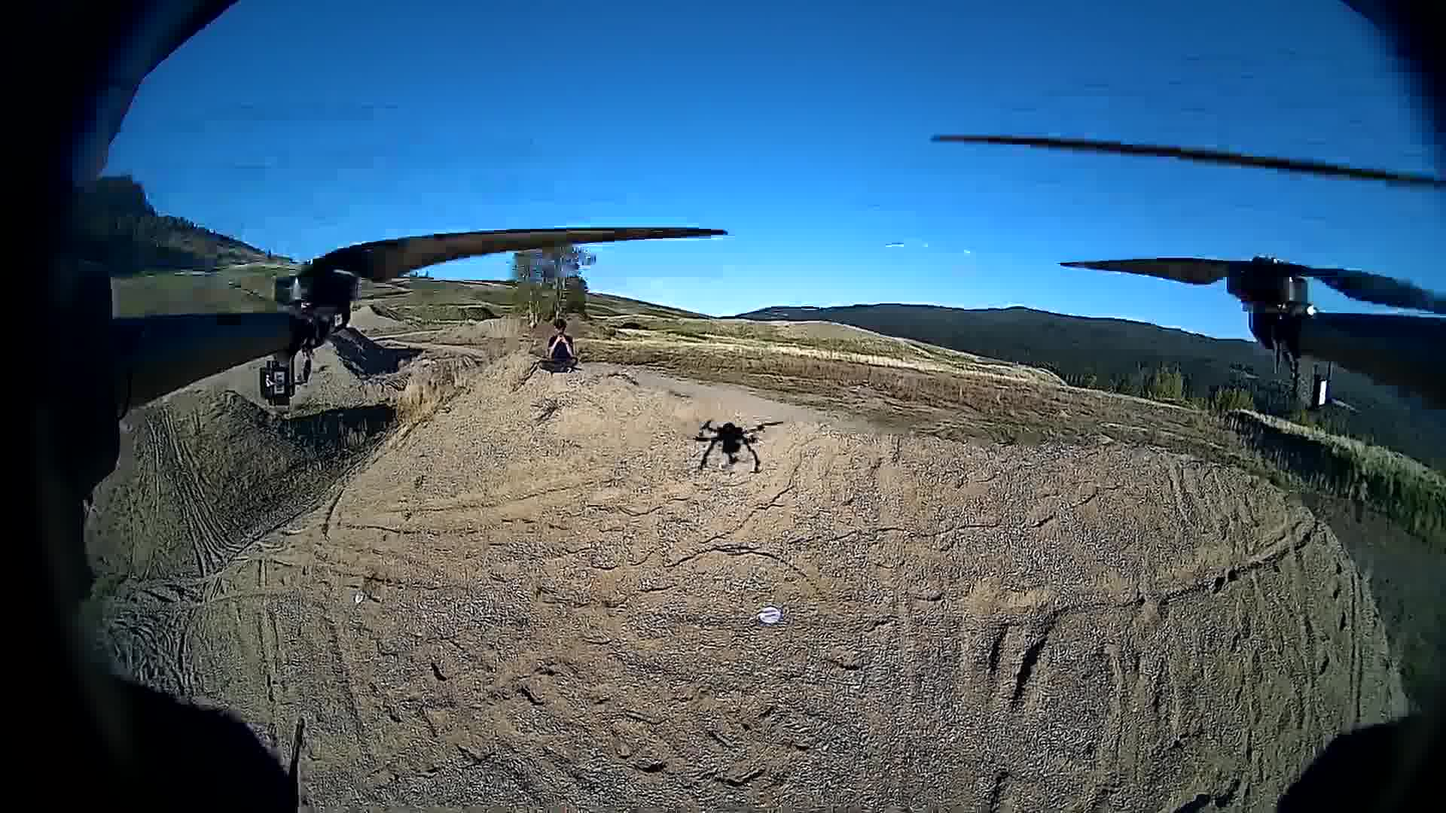Target: (760, 606, 779, 624)
